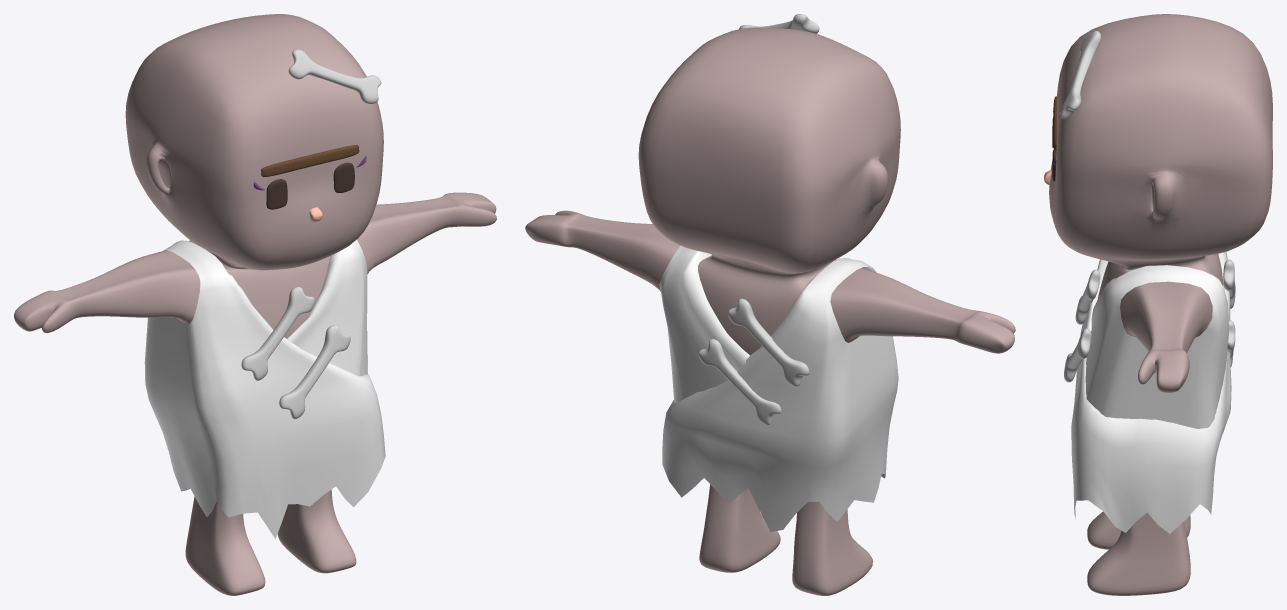
Rendered from chica_prehistoria.fbx.
3 renders of one model, left to right at view 1: azimuth 30°, elevation 25°; view 2: azimuth 150°, elevation 25°; view 3: azimuth 270°, elevation 25°, orthographic.
Visible parts, largest first — view 1: Cuerpo, Ropaje, Huesos, Unicejo, Ojos; view 2: Cuerpo, Ropaje, Huesos; view 3: Cuerpo, Ropaje, Huesos.
Part boxes in pixels (x1,y1,x2,y2): Cuerpo: [14, 14, 496, 595]; Ropaje: [144, 239, 385, 538]; Huesos: [241, 49, 381, 419]; Unicejo: [261, 145, 359, 176]; Ojos: [266, 162, 354, 209]; Cuerpo: [525, 27, 1015, 595]; Ropaje: [659, 246, 898, 531]; Huesos: [698, 14, 819, 425]; Cuerpo: [1049, 14, 1272, 595]; Ropaje: [1071, 252, 1231, 533]; Huesos: [1060, 30, 1235, 382].
Size of the model in its own units: 202 by 216 by 83.52.
